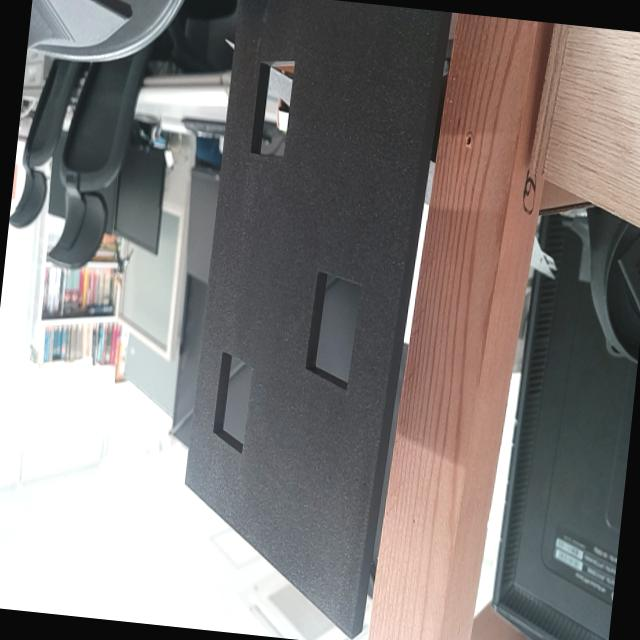Obstacle: (306, 274, 361, 390), (249, 59, 294, 158), (211, 354, 252, 453)
Wall: (186, 0, 441, 636)
